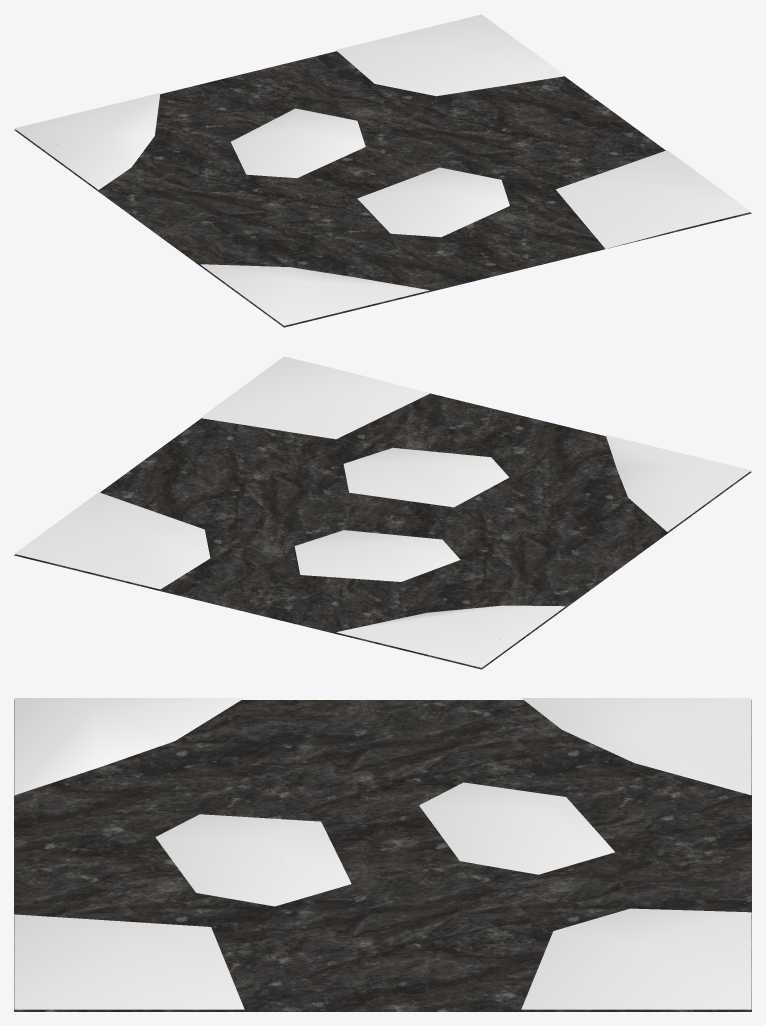
File: garden-04-art.glb
3 views of the same model, one above another, from view 1: azimuth 30°, elevation 25°; view 2: azimuth 150°, elevation 25°; view 3: azimuth 270°, elevation 25° (orthographic). The views are drawn at different scales.
Parts seen in each view (by area): view 1: Garden_04_Art; view 2: Garden_04_Art; view 3: Garden_04_Art.
Boxes of the visible parts, <box> form: Garden_04_Art: <box>14,14,751,327</box>; Garden_04_Art: <box>14,356,751,669</box>; Garden_04_Art: <box>14,698,751,1011</box>.
Bounding box in the file's own units: 15.98 × 0.5015 × 15.98.
Materials: 2 (2 with a texture image).
